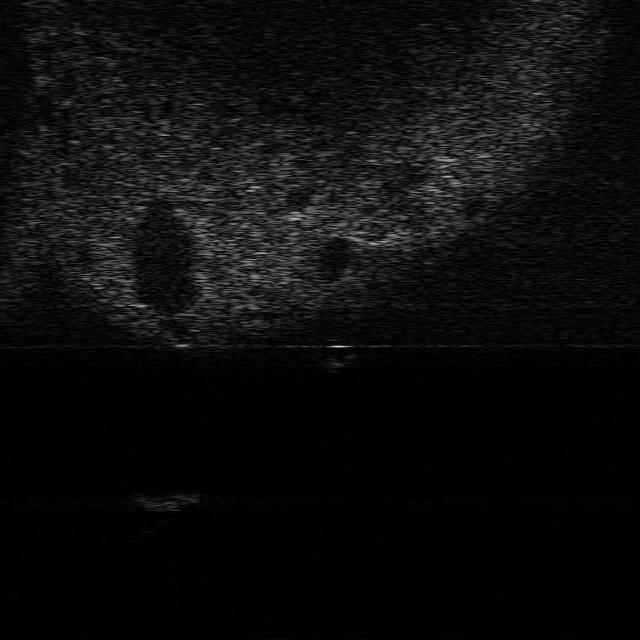ball: (307, 338, 355, 372)
cube: (126, 490, 206, 512)
